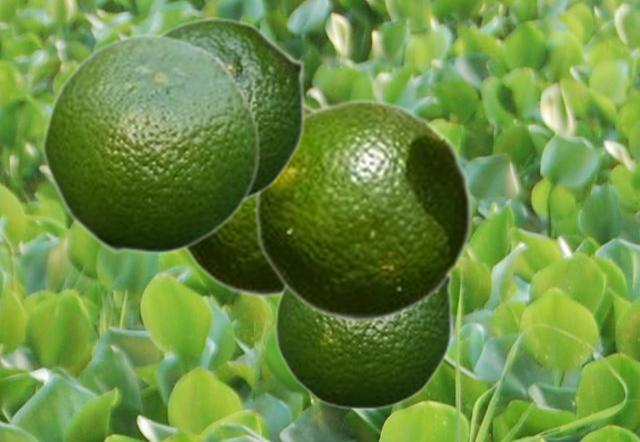calamansi: (253, 98, 473, 321), (40, 31, 260, 254), (160, 17, 305, 204), (182, 99, 318, 296), (274, 274, 453, 410)
